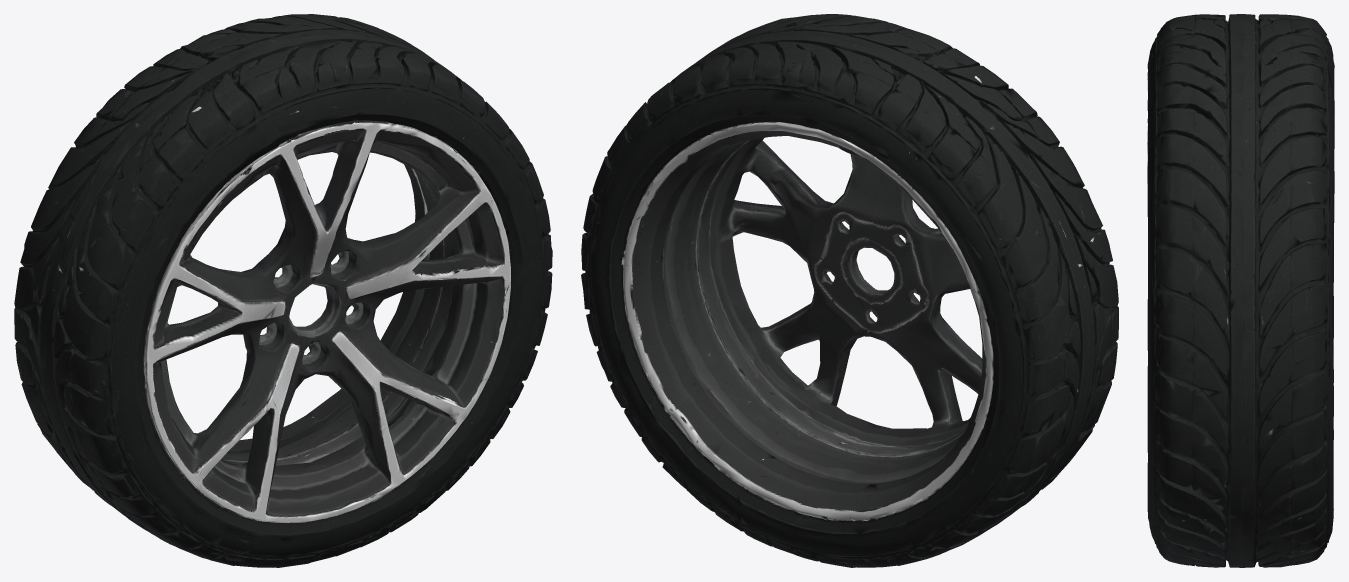
The model's file is Meshy_AI_Performance_Alloy_Wheel_20261118_texture_41460tris.glb.
The picture shows the model from 3 angles, left to right: view 1: azimuth 30°, elevation 25°; view 2: azimuth 150°, elevation 25°; view 3: azimuth 270°, elevation 25°; orthographic projection.
Parts seen in each view (by area): view 1: Mesh_0; view 2: Mesh_0; view 3: Mesh_0.
Part boxes in pixels (x1=…): Mesh_0: x1=14, y1=14, x2=552, y2=567; Mesh_0: x1=581, y1=14, x2=1118, y2=567; Mesh_0: x1=1147, y1=14, x2=1334, y2=567.
Bounding box in the file's own units: 190 × 190 × 64.28.
Materials: 1 (1 with a texture image).
